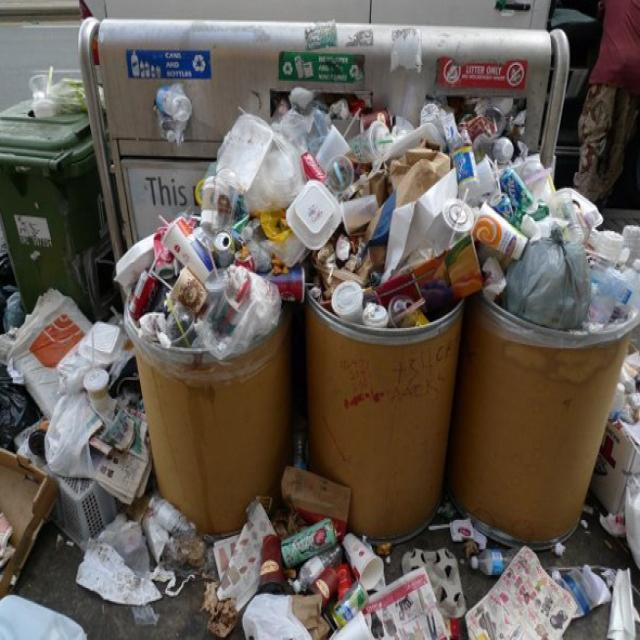metal: (278, 517, 344, 556), (298, 144, 331, 185), (212, 228, 236, 257)
paper: (369, 549, 582, 640), (286, 465, 362, 516)
plastic: (118, 513, 205, 569), (295, 183, 344, 246), (480, 206, 530, 262)
trash: (216, 126, 316, 217), (523, 236, 599, 325)
